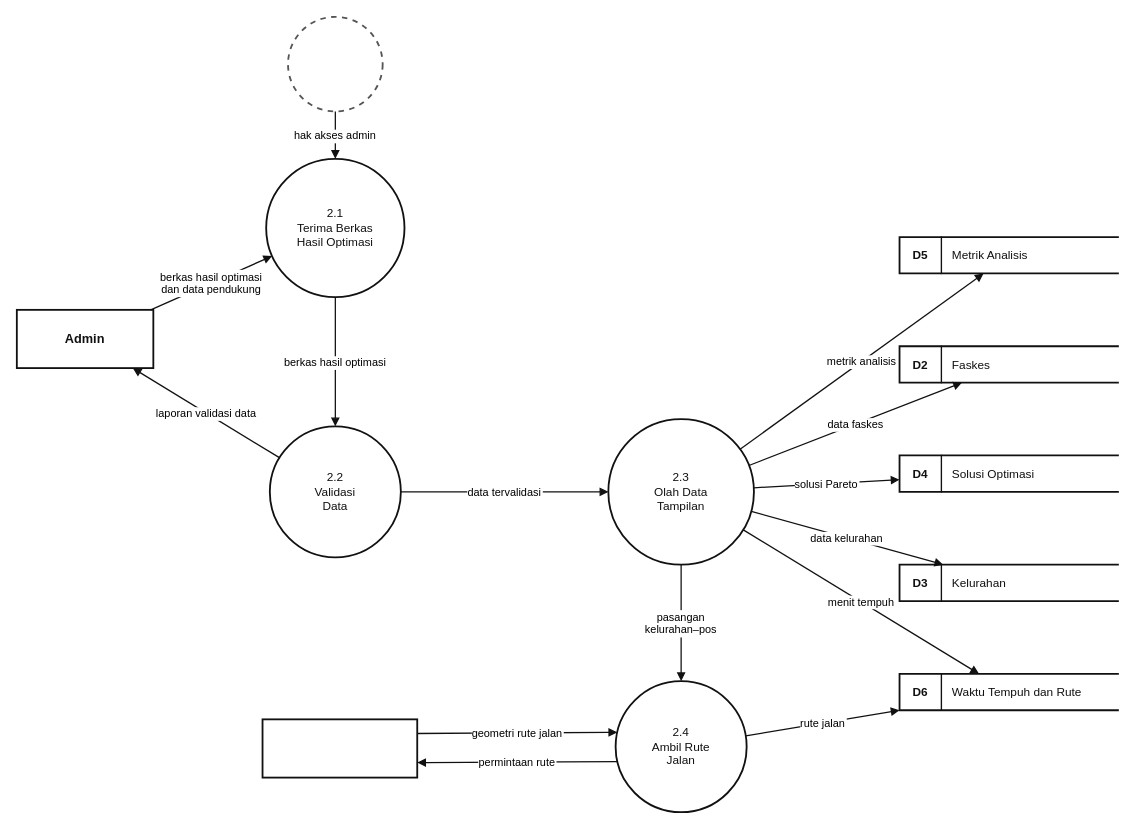
Some shapes in this 1134 by 828 pixel diagram are drawn without their labels. The box of each missing label's shape, as (x1, y1, x2, y2) in pixels:
1.0 Kelola Login Admin: (287, 15, 383, 112)
Layanan Rute (OSRM): (261, 718, 418, 778)
